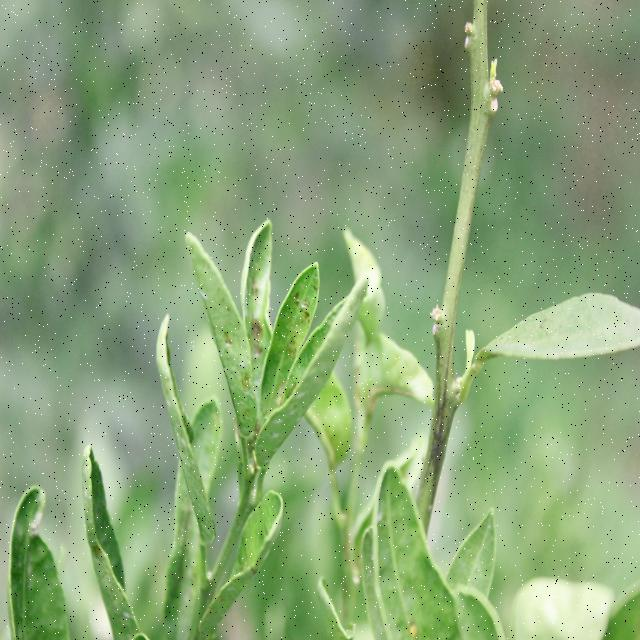canker: (266, 276, 316, 409), (218, 295, 260, 445), (245, 260, 265, 364), (400, 613, 430, 640)
